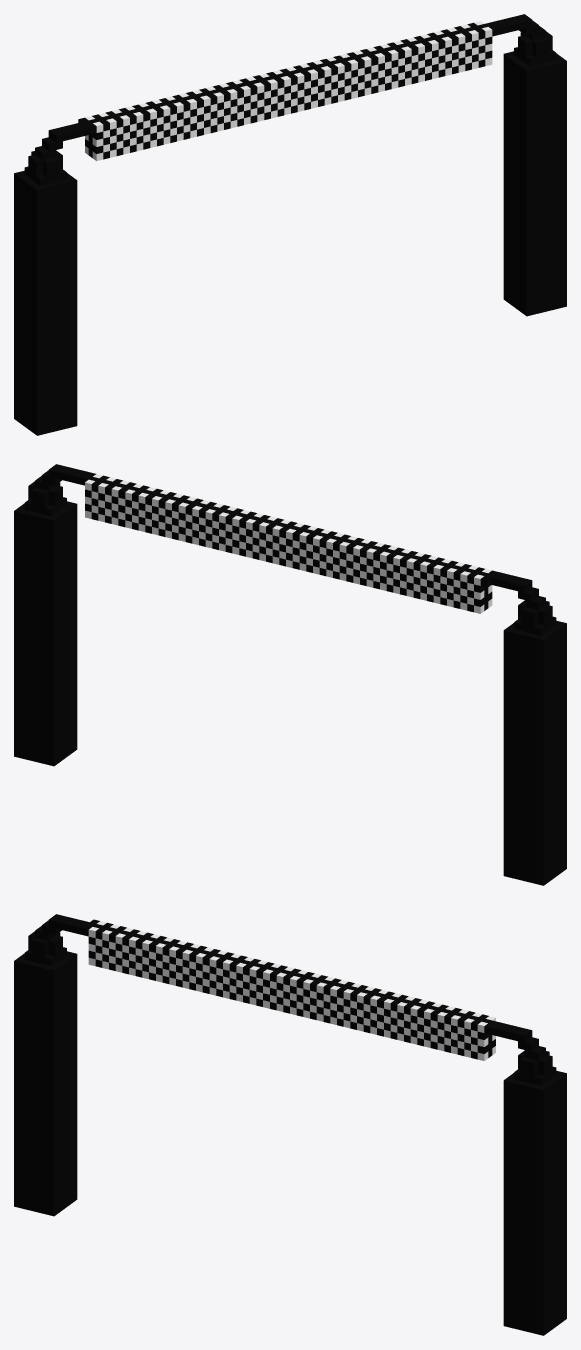
The model's file is metaModel.obj.
The picture shows the model from 3 angles, top to bottom: view 1: azimuth 30°, elevation 25°; view 2: azimuth 150°, elevation 25°; view 3: azimuth 330°, elevation 25°; orthographic projection.
Bounding box in the file's own units: 7.9 × 4.1 × 0.6.
1 material, 1 textured.
